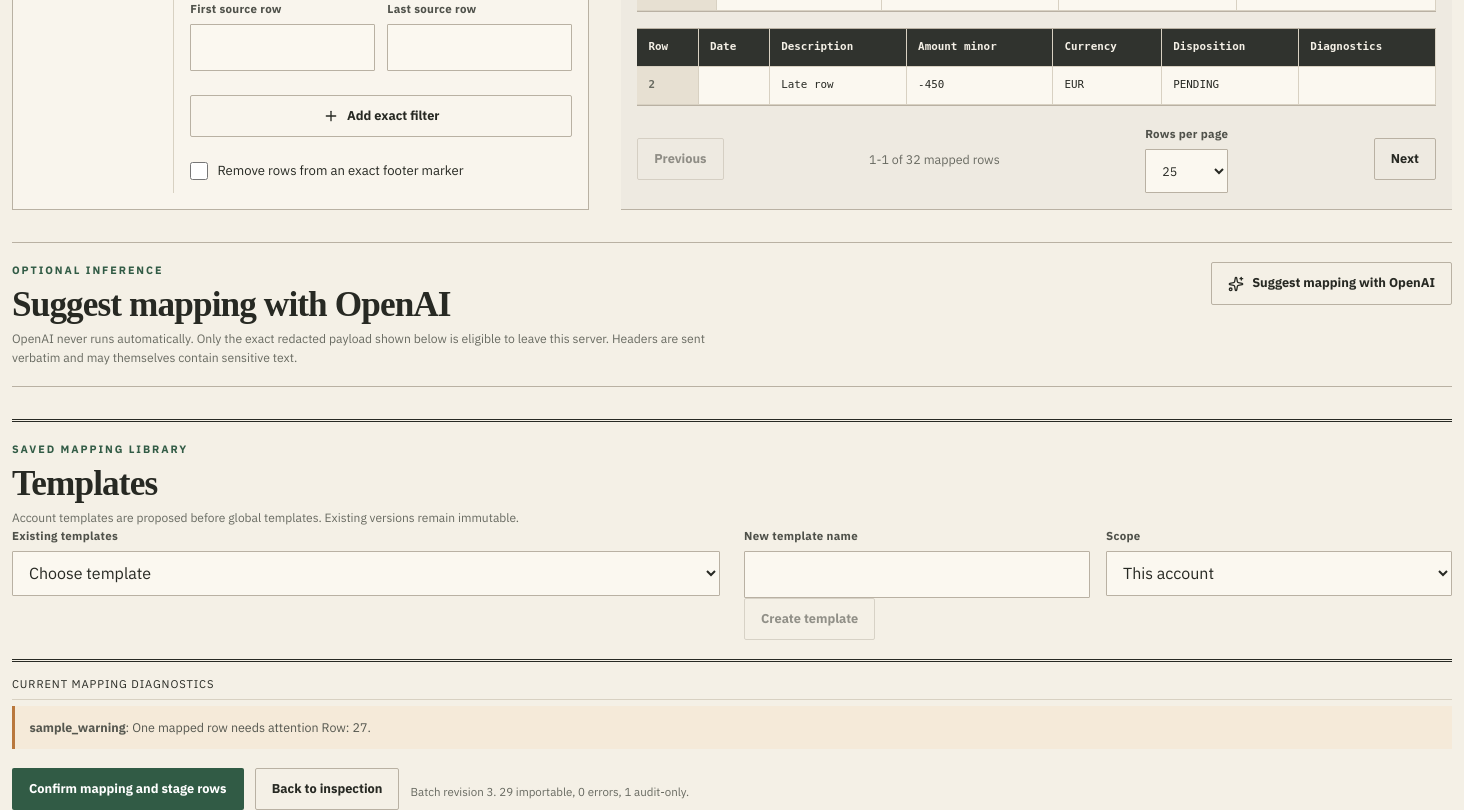
Test: ImportWizardPage › advances a ready staged batch to commit
The width and height of the screenshot is (1464, 810).
(page scrolled)
Click the button "Confirm mapping and stage rows" at (128, 789), box [12,768,244,809]
(page scrolled)
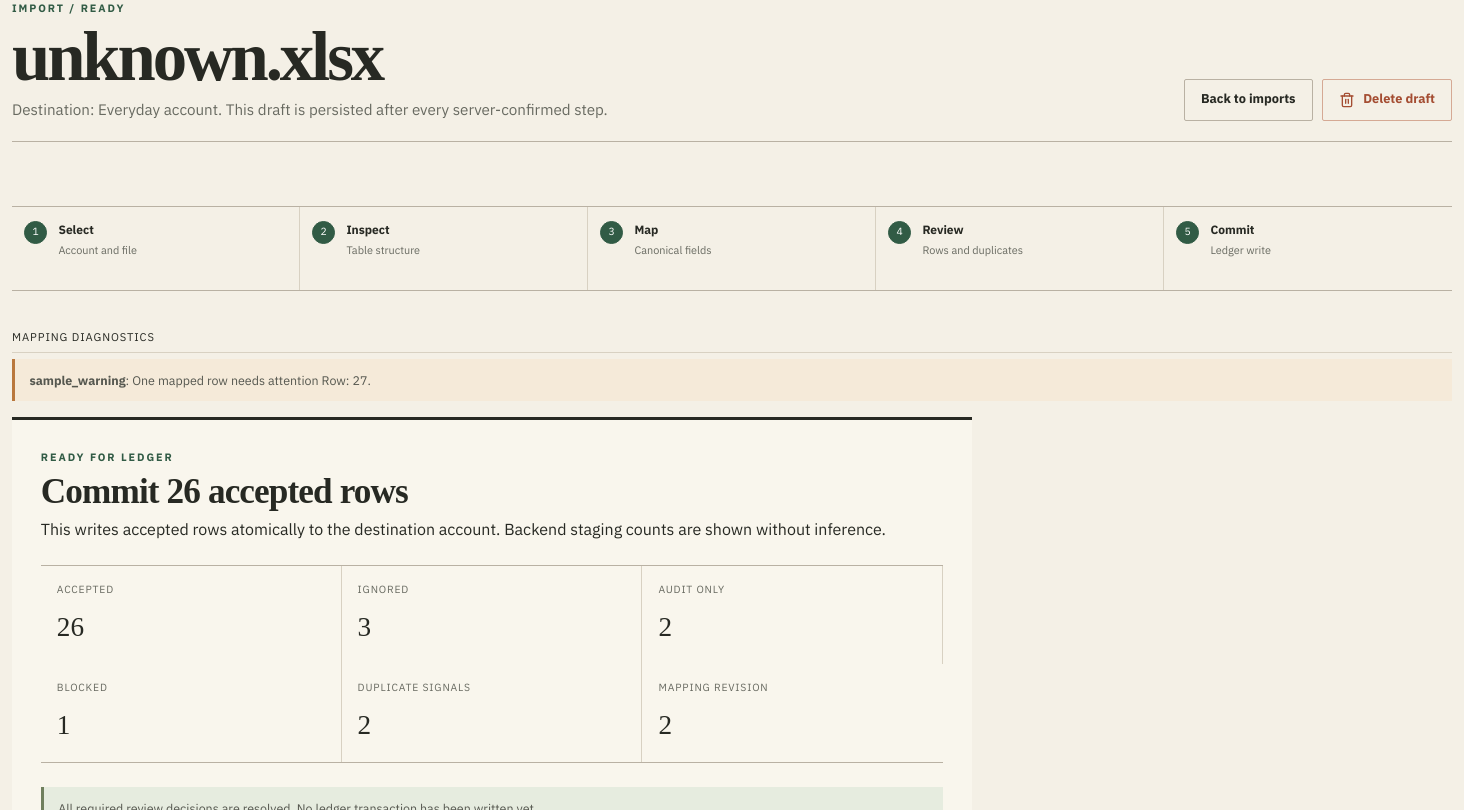
Now the heading "Commit 26 accepted rows" is shown, box [41,472,408,511]
Now the button "Confirm mapping and stage rows" is gone
